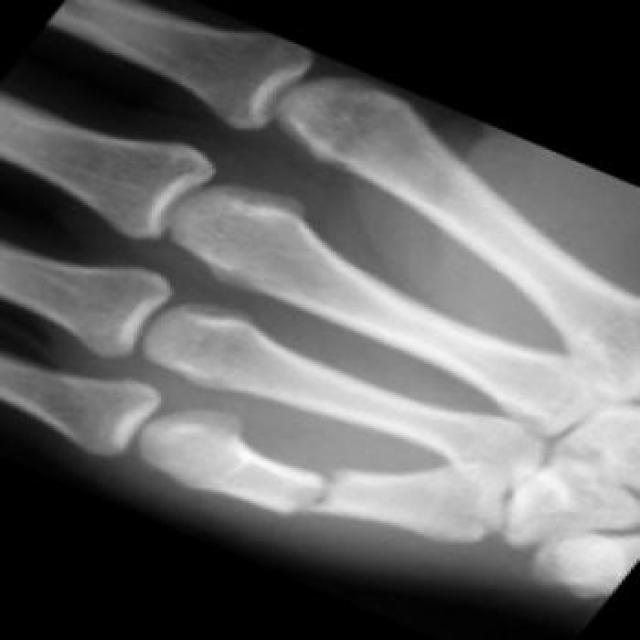Fracture: (274, 461, 352, 530)
